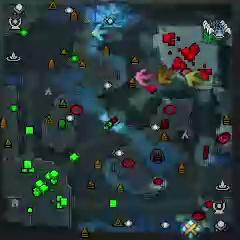Other: (180, 220, 200, 239)
x1: (134, 68, 155, 87)
x2: (186, 70, 203, 88)
x3: (91, 24, 109, 41)
x4: (202, 28, 218, 45)
x5: (158, 67, 173, 85)
